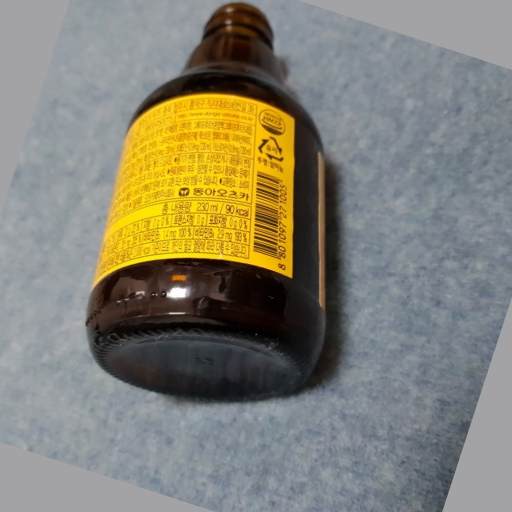Glass_3: (82, 3, 331, 402)
